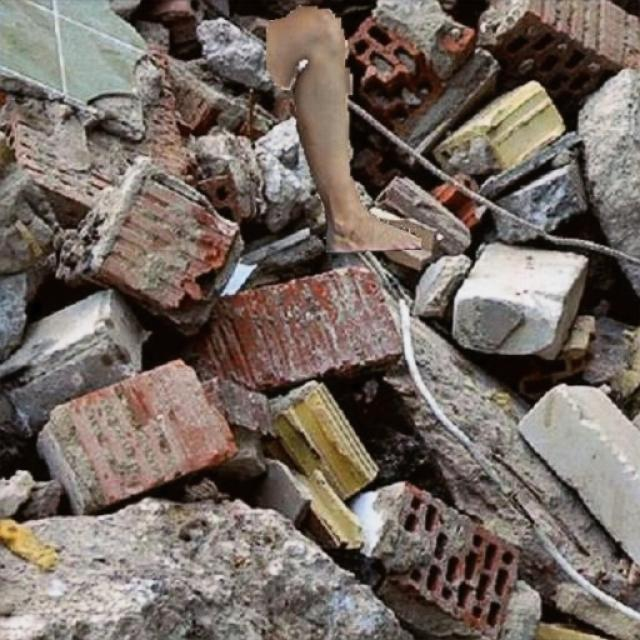Person in Rubble: (266, 5, 420, 251)
